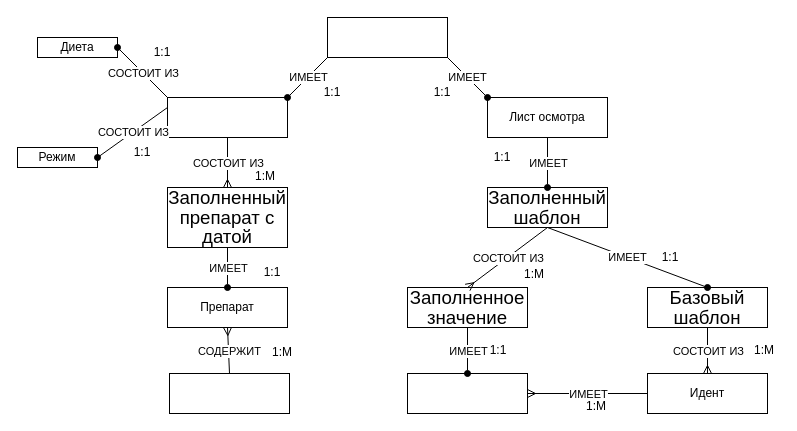
The diagram is 797 pixels wide and 431 high, and some of its shapes have lost their labels. The box of each missing label's shape, as (x1, y1, x2, y2) in pixels:
Значение: (406, 372, 528, 414)
Лист назначений: (166, 96, 288, 138)
Пациент: (326, 16, 448, 58)
Тип: (168, 372, 290, 414)
